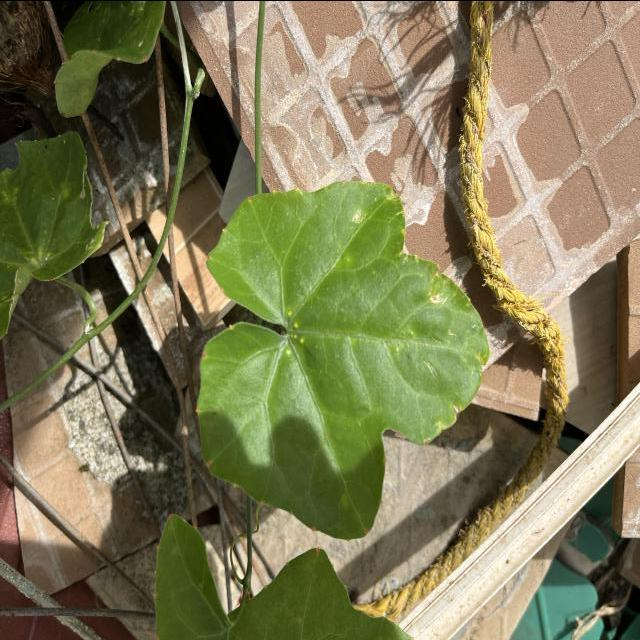Coccinia grandis: (193, 178, 490, 543)
